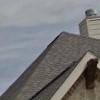Chimney: (75, 4, 100, 50)
